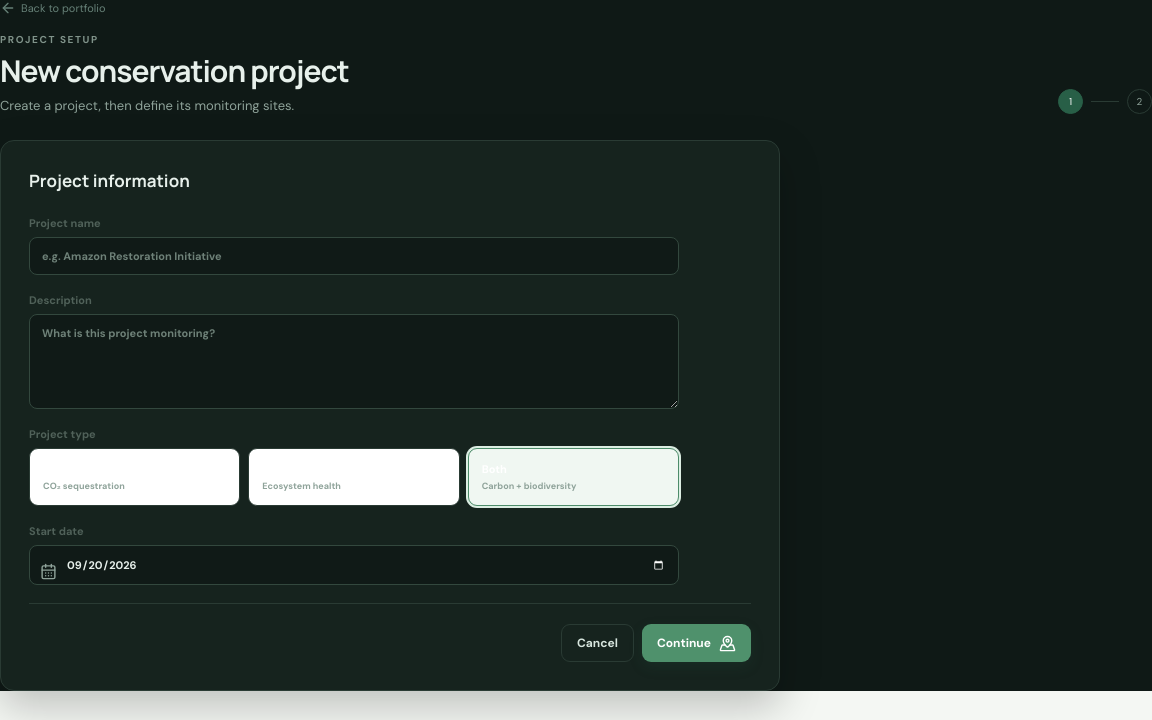
Test: CreateProject — Story 1 › cannot finish the flow until at least one site is saved
In the field with placeholder "e.g. Amazon Restoration Initiative": (354, 256) left=29, top=237, right=679, bottom=275, type "Amazon Restoration"
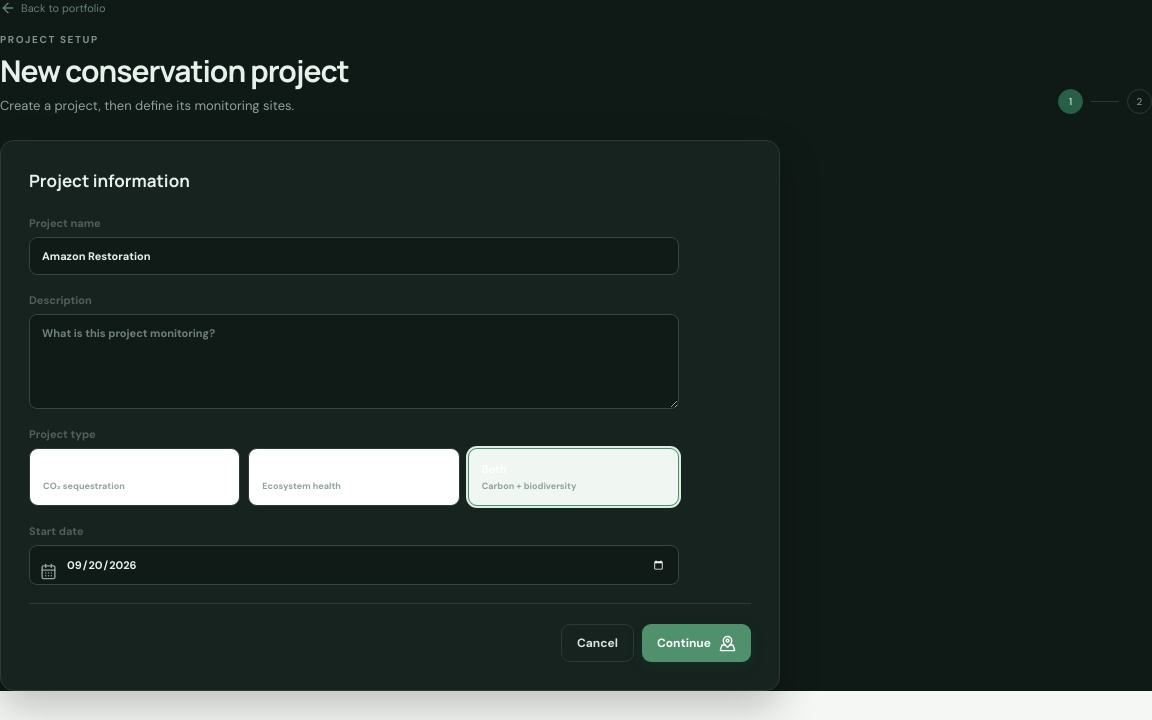
Click the button "Continue": (696, 643) left=642, top=624, right=751, bottom=662
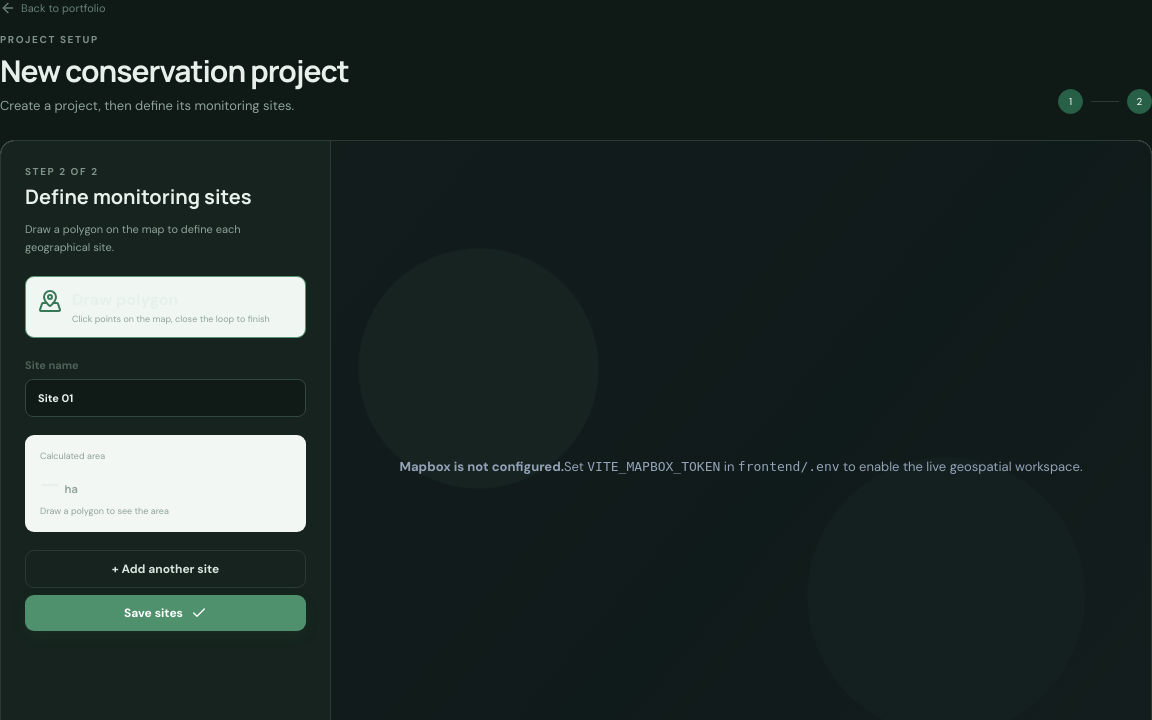
Result: the button "Save sites" is disabled at left=25, top=595, right=306, bottom=631
